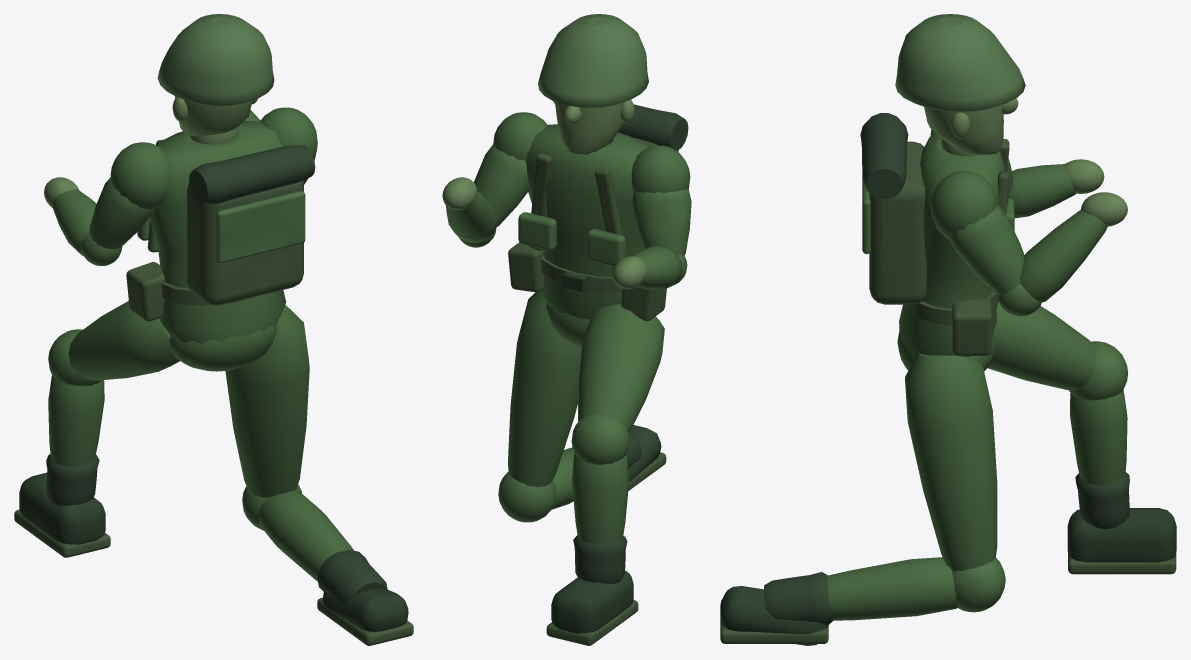
The model's file is crew_animated.glb.
3 renders of one model, left to right at view 1: azimuth 30°, elevation 25°; view 2: azimuth 150°, elevation 25°; view 3: azimuth 270°, elevation 25°, orthographic. The views are drawn at different scales.
Parts seen in each view (by area): view 1: CrewLegs, CrewTorso, LeftUpper, LeftLower, RightUpper; view 2: CrewLegs, CrewTorso, LeftUpper, RightUpper, RightLower, LeftLower; view 3: CrewLegs, CrewTorso, RightUpper, RightLower, LeftLower.
Boxes of the visible parts, x1,y1,x2,y2 form: CrewLegs: [14, 301, 413, 645]; CrewTorso: [126, 14, 315, 344]; LeftUpper: [89, 142, 170, 249]; LeftLower: [44, 177, 122, 265]; RightUpper: [260, 107, 317, 184]; CrewLegs: [498, 291, 666, 645]; CrewTorso: [508, 14, 688, 321]; LeftUpper: [631, 145, 691, 255]; RightUpper: [474, 112, 547, 227]; RightLower: [442, 177, 496, 247]; LeftLower: [612, 246, 687, 290]; CrewLegs: [720, 302, 1176, 645]; CrewTorso: [860, 14, 1025, 356]; RightUpper: [930, 171, 1024, 295]; RightLower: [997, 192, 1127, 316]; LeftLower: [1009, 159, 1104, 218].
Size of the model in its own units: 0.662 by 1.54 by 1.08.
5 materials, 5 textured.
